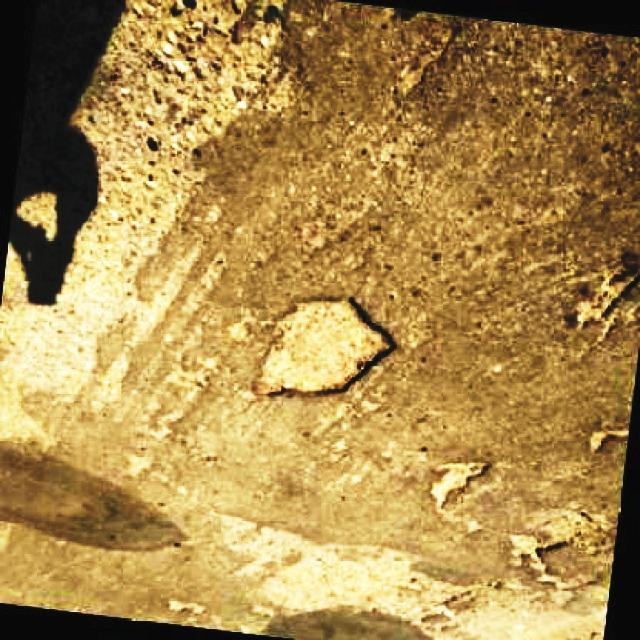pothole: (92, 0, 287, 152), (245, 532, 492, 640), (252, 292, 398, 410), (518, 516, 614, 598), (558, 245, 640, 340), (434, 458, 489, 512)
